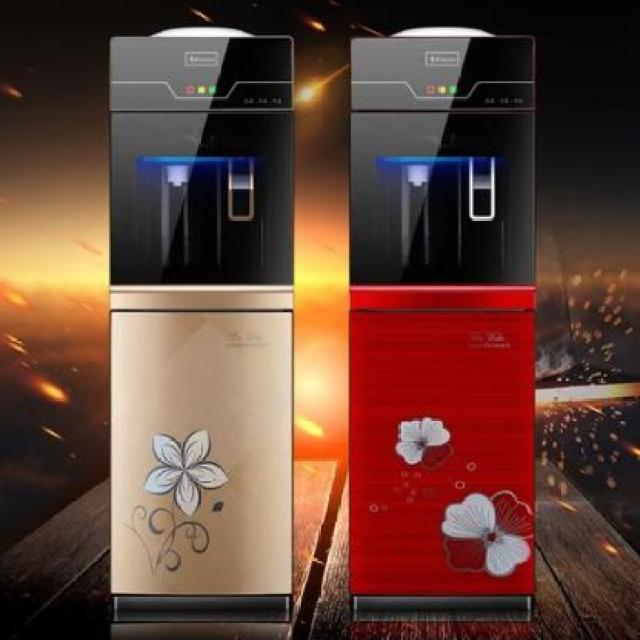cooler: (105, 26, 299, 632), (346, 22, 540, 623)
